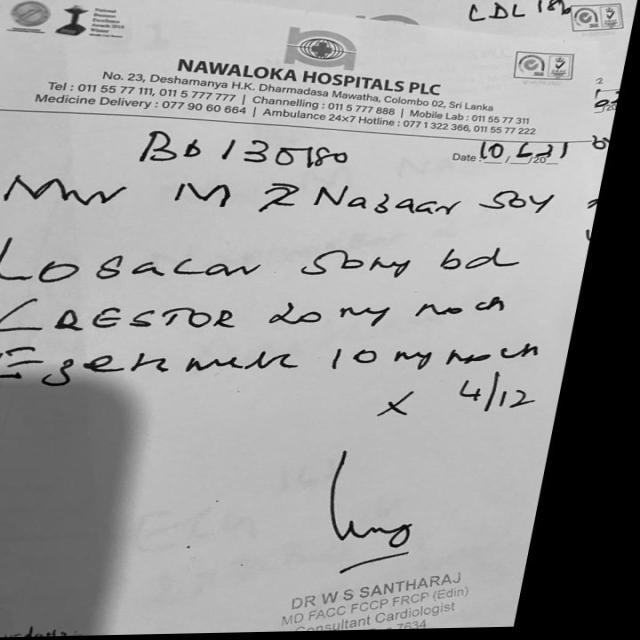Prescription: (0, 334, 571, 424), (0, 226, 540, 283), (6, 286, 532, 330)
